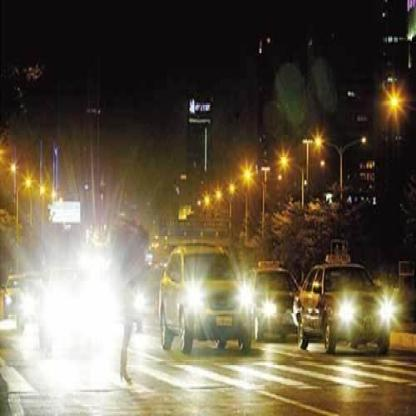other: (38, 263, 126, 380), (8, 154, 86, 236), (181, 277, 207, 317), (376, 291, 400, 331), (384, 80, 404, 123), (21, 296, 34, 357), (337, 289, 356, 328), (309, 123, 329, 159), (277, 151, 296, 182), (133, 276, 147, 312), (236, 286, 254, 313), (260, 299, 277, 324), (238, 162, 253, 184), (200, 188, 212, 207), (227, 178, 235, 197), (214, 186, 222, 202)
